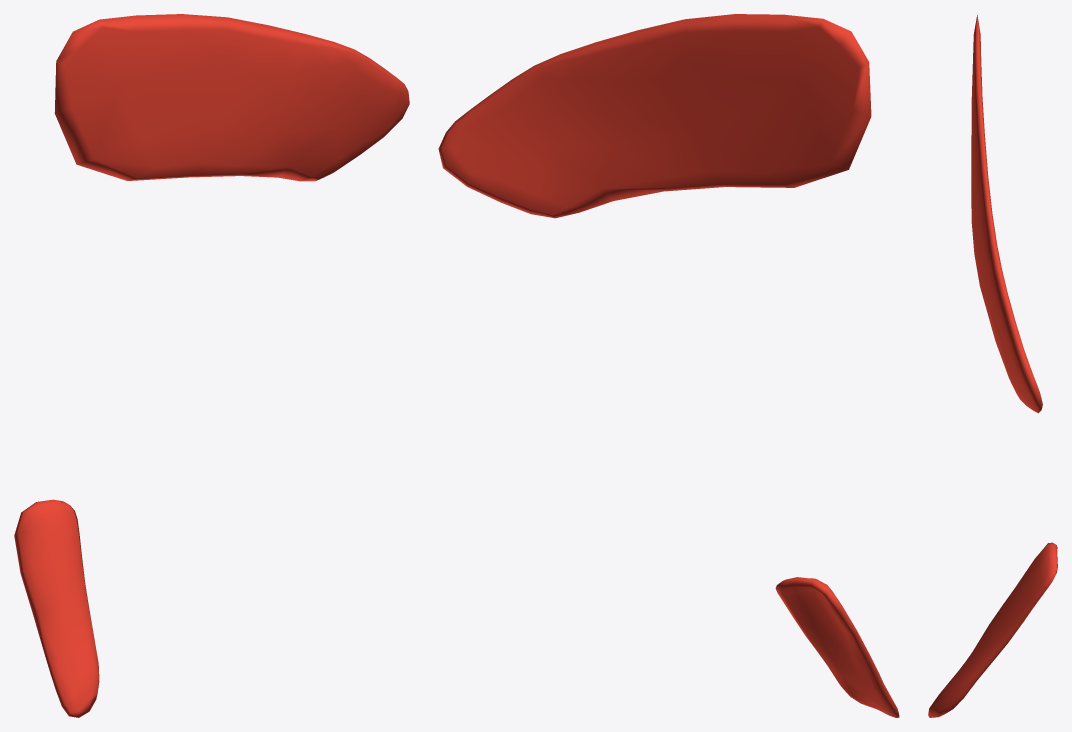
The model's file is Procerus-_Insertions.l_Generated_Mesh_From_X3D.756.glb.
3 renders of one model, left to right at view 1: azimuth 30°, elevation 25°; view 2: azimuth 150°, elevation 25°; view 3: azimuth 270°, elevation 25°, orthographic. The views are drawn at different scales.
Visible parts, largest first — view 1: Procerus-_Insertions.l_Generated_Mesh_From_X3D.756; view 2: Procerus-_Insertions.l_Generated_Mesh_From_X3D.756; view 3: Procerus-_Insertions.l_Generated_Mesh_From_X3D.756.
Boxes of the visible parts, x1,y1,x2,y2 form: Procerus-_Insertions.l_Generated_Mesh_From_X3D.756: (14, 14, 409, 717); Procerus-_Insertions.l_Generated_Mesh_From_X3D.756: (438, 14, 899, 717); Procerus-_Insertions.l_Generated_Mesh_From_X3D.756: (928, 15, 1057, 717).
Bounding box in the file's own units: 0.0213 × 0.0347 × 0.00571.
